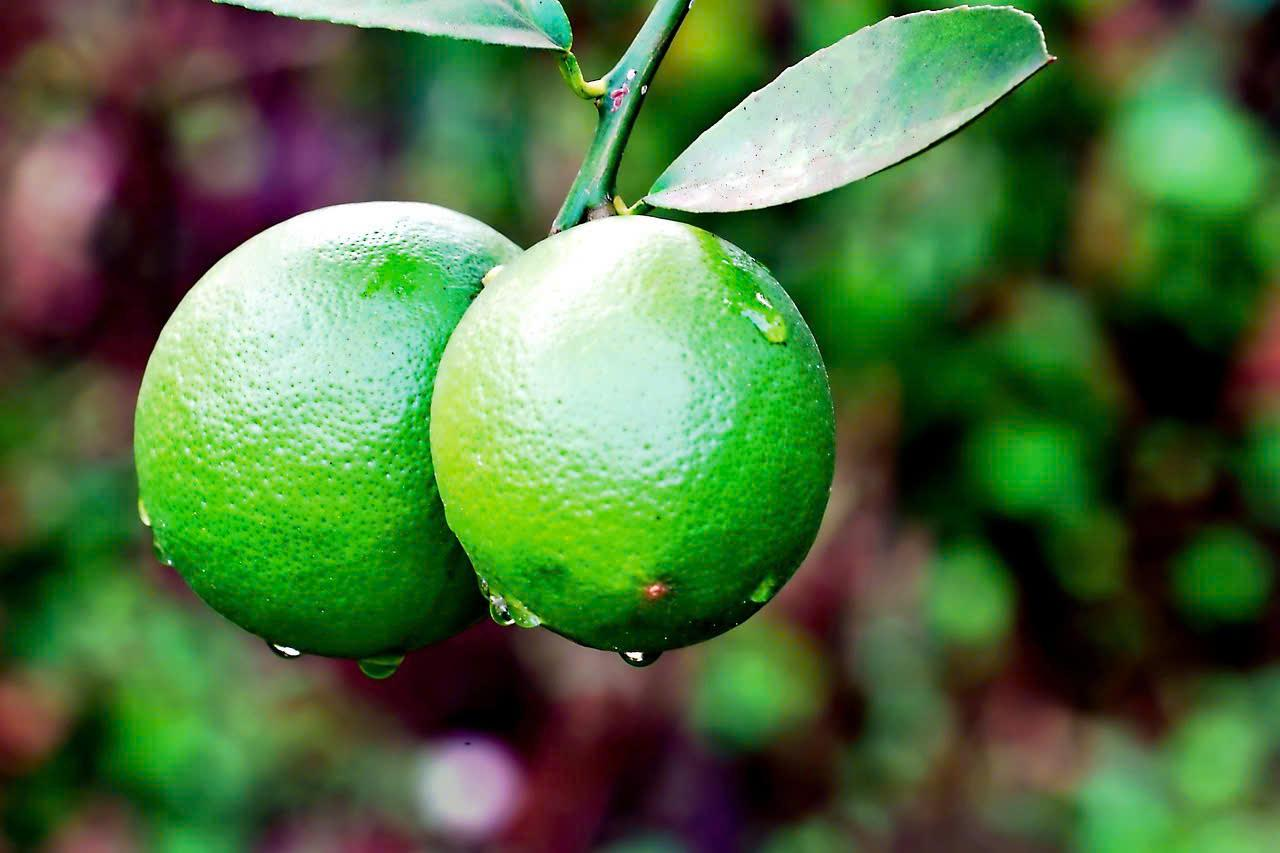lime: (433, 200, 875, 683), (105, 175, 436, 698)
